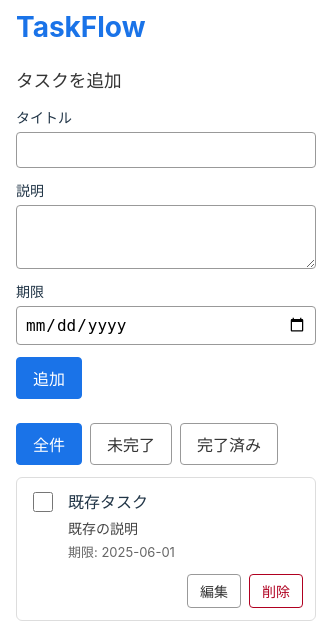
Test case: App タスク編集 › 編集ボタンでフォームが編集モードになり、保存で内容が更新される
Check: the text "既存タスク" is shown, box [68,492,148,512]
Step 1. Click the button "編集" → (214, 591), box [187,574,241,608]
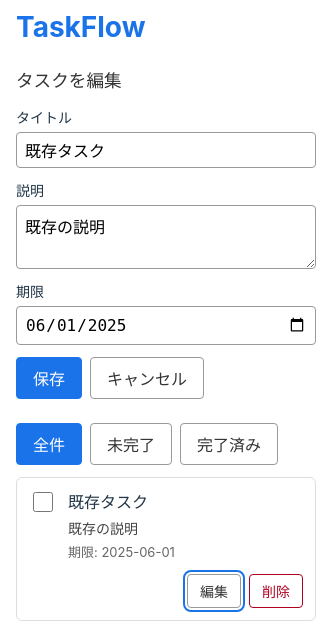
Check: the heading "タスクを編集" is shown, box [16,70,122,91]
Check: the field labelled "タイトル" holds "既存タスク"
Step 2. Replace the text in the field labelled "タイトル" with "更新後タスク" → (166, 150), box [16,132,316,168]
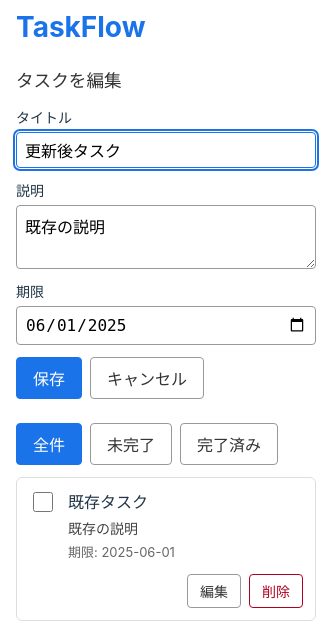
Step 3. Click the button "保存" → (49, 378), box [16,357,82,399]
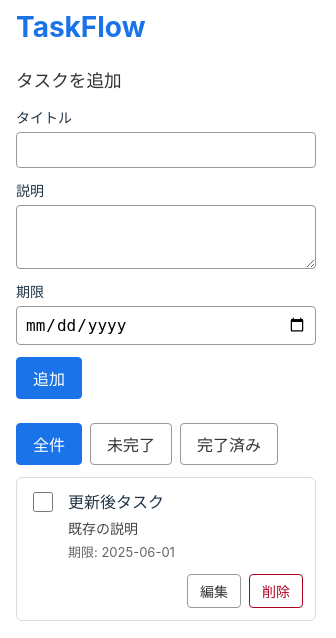
Check: the text "更新後タスク" is shown, box [68,492,164,512]
Check: the text "既存タスク" is gone
Check: the heading "タスクを追加" is shown, box [16,70,122,91]
